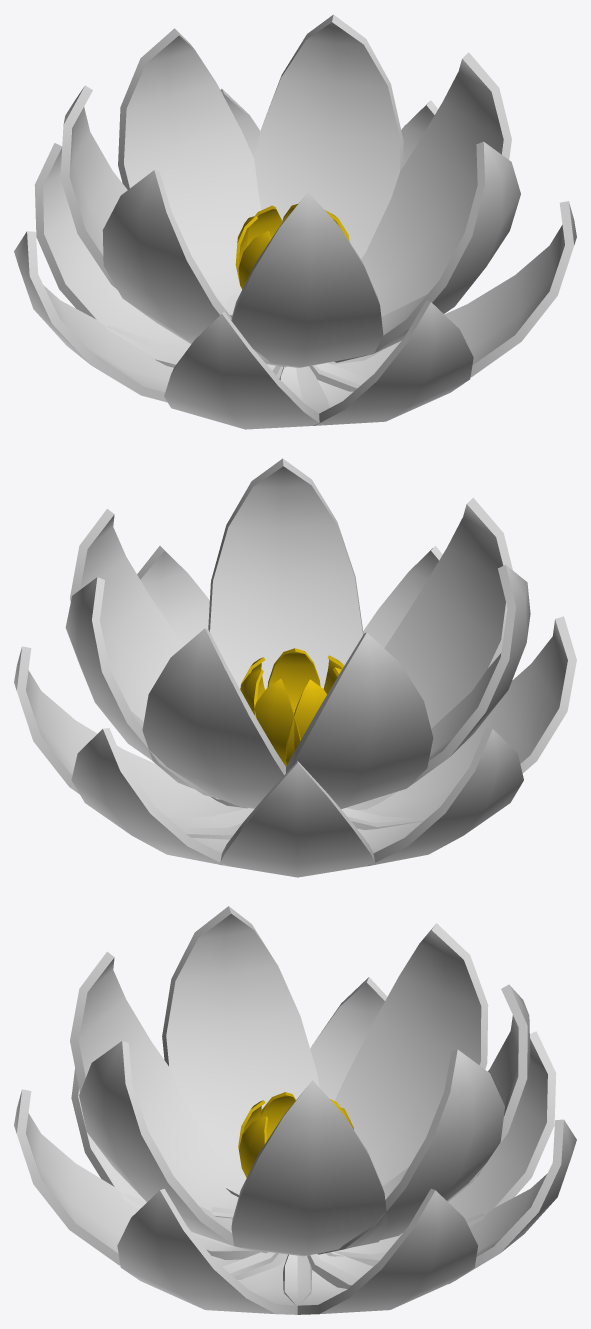
The model's file is WaterLilyBlossom.fbx.
The picture shows the model from 3 angles, top to bottom: view 1: azimuth 30°, elevation 25°; view 2: azimuth 150°, elevation 25°; view 3: azimuth 270°, elevation 25°; orthographic projection.
Parts seen in each view (by area): view 1: WaterLilyBlossom; view 2: WaterLilyBlossom; view 3: WaterLilyBlossom.
Part boxes in pixels (left/top/right/bottom): WaterLilyBlossom: left=14, top=14, right=576, bottom=429; WaterLilyBlossom: left=14, top=458, right=576, bottom=877; WaterLilyBlossom: left=14, top=906, right=576, bottom=1314.
Size of the model in its own units: 0.293 by 0.1686 by 0.3068.
